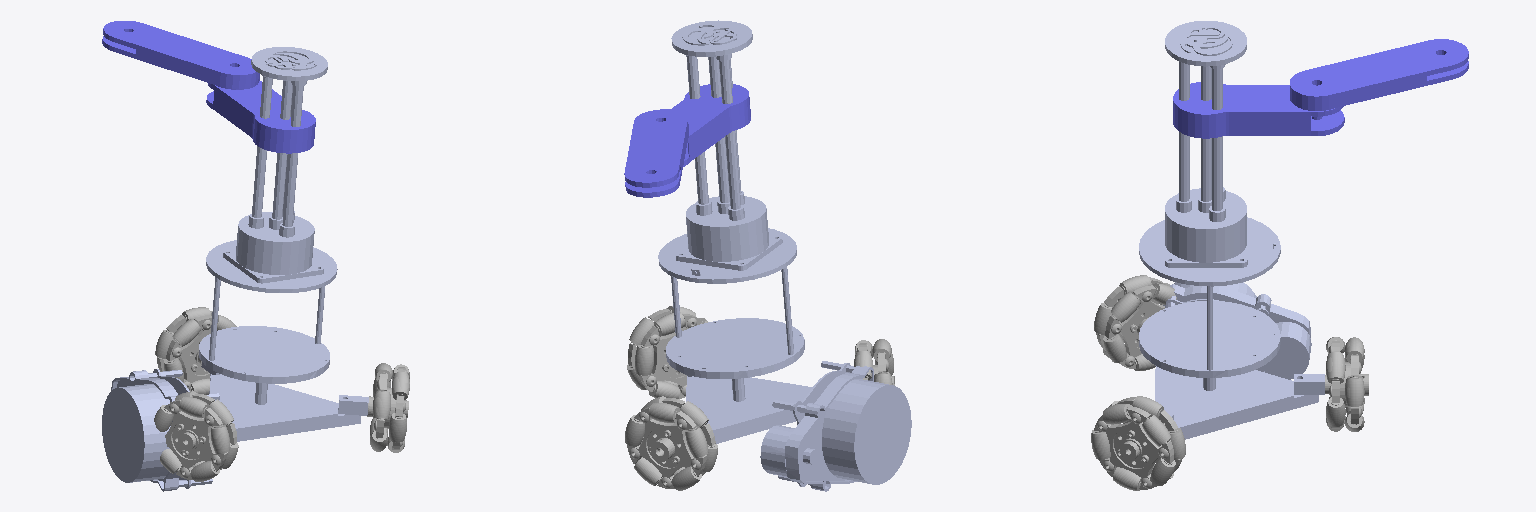
URDF robot description (Assem1):
<?xml version="1.0" encoding="utf-8"?>
<!-- This URDF was automatically created by SolidWorks to URDF Exporter! Originally created by [author] ([email redacted]) 
     Commit Version: 1.6.0-4-g7f85cfe  Build Version: 1.6.7995.38578
     For more information, please see http://wiki.ros.org/sw_urdf_exporter -->
<robot
  name="Assem1">
  <link
    name="base_link">
    <inertial>
      <origin
        xyz="0.00138412988892166 -0.233947694200955 0.086447759587498"
        rpy="0 0 0" />
      <mass
        value="0.212718644749271" />
      <inertia
        ixx="0.000468307672361224"
        ixy="-7.90615897498573E-10"
        ixz="-2.72097649438798E-05"
        iyy="0.000473440858649474"
        iyz="-1.77706072479913E-09"
        izz="0.000156068332696657" />
    </inertial>
    <visual>
      <origin
        xyz="0 0 0"
        rpy="0 0 0" />
      <geometry>
        <mesh
          filename="package://Assem1/meshes/base_link.STL" />
      </geometry>
      <material
        name="">
        <color
          rgba="0.792156862745098 0.819607843137255 0.933333333333333 1" />
      </material>
    </visual>
    <collision>
      <origin
        xyz="0 0 0"
        rpy="0 0 0" />
      <geometry>
        <mesh
          filename="package://Assem1/meshes/base_link.STL" />
      </geometry>
    </collision>
  </link>
  <link
    name="front_Link">
    <inertial>
      <origin
        xyz="-2.27165451396026E-06 9.99271376754193E-07 -0.0148791788242376"
        rpy="0 0 0" />
      <mass
        value="0.0376948230262005" />
      <inertia
        ixx="3.0970610652425E-06"
        ixy="9.0253844933679E-11"
        ixz="8.03810931836072E-10"
        iyy="3.09724580846862E-06"
        iyz="-3.53660389656641E-10"
        izz="5.34878410103065E-06" />
    </inertial>
    <visual>
      <origin
        xyz="0 0 0"
        rpy="0 0 0" />
      <geometry>
        <mesh
          filename="package://Assem1/meshes/front_Link.STL" />
      </geometry>
      <material
        name="">
        <color
          rgba="0.752941176470588 0.752941176470588 0.752941176470588 1" />
      </material>
    </visual>
    <collision>
      <origin
        xyz="0 0 0"
        rpy="0 0 0" />
      <geometry>
        <mesh
          filename="package://Assem1/meshes/front_Link.STL" />
      </geometry>
    </collision>
  </link>
  <joint
    name="front_joint"
    type="continuous">
    <origin
      xyz="-0.00404950262649333 -0.132105823252763 0.013307001497799"
      rpy="-1.57079632679488 0 0" />
    <parent
      link="base_link" />
    <child
      link="front_Link" />
    <axis
      xyz="0 0 -1" />
  </joint>
  <link
    name="left_Link">
    <inertial>
      <origin
        xyz="-1.56660067981984E-06 -1.92476766305502E-06 -0.0127208211603687"
        rpy="0 0 0" />
      <mass
        value="0.0376948231806095" />
      <inertia
        ixx="3.0970902966984E-06"
        ixy="-6.31823673559827E-11"
        ixz="-5.54316275714863E-10"
        iyy="3.09709294491525E-06"
        iyz="-6.81131430316285E-10"
        izz="5.34866048693013E-06" />
    </inertial>
    <visual>
      <origin
        xyz="0 0 0"
        rpy="0 0 0" />
      <geometry>
        <mesh
          filename="package://Assem1/meshes/left_Link.STL" />
      </geometry>
      <material
        name="">
        <color
          rgba="0.752941176470588 0.752941176470588 0.752941176470588 1" />
      </material>
    </visual>
    <collision>
      <origin
        xyz="0 0 0"
        rpy="0 0 0" />
      <geometry>
        <mesh
          filename="package://Assem1/meshes/left_Link.STL" />
      </geometry>
    </collision>
  </link>
  <joint
    name="left_joint"
    type="continuous">
    <origin
      xyz="-0.0925760232167772 -0.282329162453783 0.0209263985394864"
      rpy="1.49527817360993 -0.131724426585819 -1.04816512172391" />
    <parent
      link="base_link" />
    <child
      link="left_Link" />
    <axis
      xyz="0 0 -1" />
  </joint>
  <link
    name="right_Link">
    <inertial>
      <origin
        xyz="-2.45029280787623E-06 -3.93729776879126E-07 -0.0127208212275807"
        rpy="0 0 0" />
      <mass
        value="0.0376948233263364" />
      <inertia
        ixx="3.09712511369975E-06"
        ixy="3.61541755318194E-11"
        ixz="-8.67065222721518E-10"
        iyy="3.09706580134537E-06"
        iyz="-1.39372238878642E-10"
        izz="5.34866814999537E-06" />
    </inertial>
    <visual>
      <origin
        xyz="0 0 0"
        rpy="0 0 0" />
      <geometry>
        <mesh
          filename="package://Assem1/meshes/right_Link.STL" />
      </geometry>
      <material
        name="">
        <color
          rgba="0.752941176470588 0.752941176470588 0.752941176470588 1" />
      </material>
    </visual>
    <collision>
      <origin
        xyz="0 0 0"
        rpy="0 0 0" />
      <geometry>
        <mesh
          filename="package://Assem1/meshes/right_Link.STL" />
      </geometry>
    </collision>
  </link>
  <joint
    name="right_joint"
    type="continuous">
    <origin
      xyz="0.0814995964484913 -0.284509931547859 0.00594386841558721"
      rpy="1.64514555347933 -0.122670734776094 1.02398056831871" />
    <parent
      link="base_link" />
    <child
      link="right_Link" />
    <axis
      xyz="0 0 -1" />
  </joint>
  <link
    name="arm1_Link">
    <inertial>
      <origin
        xyz="6.07153216591882E-18 0.0251509254923845 -0.00869949806228582"
        rpy="0 0 0" />
      <mass
        value="0.0420074696165442" />
      <inertia
        ixx="3.92690065728655E-05"
        ixy="-3.19585442309E-21"
        ixz="6.20769865749185E-22"
        iyy="6.44311567787378E-06"
        iyz="-1.87122821944549E-08"
        izz="4.27850096860371E-05" />
    </inertial>
    <visual>
      <origin
        xyz="0 0 0"
        rpy="0 0 0" />
      <geometry>
        <mesh
          filename="package://Assem1/meshes/arm1_Link.STL" />
      </geometry>
      <material
        name="">
        <color
          rgba="0.501960784313725 0.501960784313725 1 1" />
      </material>
    </visual>
    <collision>
      <origin
        xyz="0 0 0"
        rpy="0 0 0" />
      <geometry>
        <mesh
          filename="package://Assem1/meshes/arm1_Link.STL" />
      </geometry>
    </collision>
  </link>
  <joint
    name="arm1_joint"
    type="prismatic">
    <origin
      xyz="0.0129942408668358 -0.235222572309918 0.221414479437715"
      rpy="0 0.0858574993068488 0" />
    <parent
      link="base_link" />
    <child
      link="arm1_Link" />
    <axis
      xyz="0 0 1" />
    <limit
      lower="0"
      upper="0"
      effort="0"
      velocity="0" />
  </joint>
  <link
    name="arm2_Link">
    <inertial>
      <origin
        xyz="-0.0219117692224897 0.0449779576804024 3.36284280196275E-05"
        rpy="0 0 0" />
      <mass
        value="0.0315426372720138" />
      <inertia
        ixx="3.05694213575924E-05"
        ixy="1.31480071425889E-05"
        ixz="2.25748474704743E-09"
        iyy="9.9859787189301E-06"
        iyz="-4.63390483834162E-09"
        izz="3.98214760721726E-05" />
    </inertial>
    <visual>
      <origin
        xyz="0 0 0"
        rpy="0 0 0" />
      <geometry>
        <mesh
          filename="package://Assem1/meshes/arm2_Link.STL" />
      </geometry>
      <material
        name="">
        <color
          rgba="0.501960784313725 0.501960784313725 1 1" />
      </material>
    </visual>
    <collision>
      <origin
        xyz="0 0 0"
        rpy="0 0 0" />
      <geometry>
        <mesh
          filename="package://Assem1/meshes/arm2_Link.STL" />
      </geometry>
    </collision>
  </link>
  <joint
    name="arm2_joint"
    type="continuous">
    <origin
      xyz="0.0183657404078357 -0.174985991062 0.226924157165142"
      rpy="0 0.0858574993068487 0" />
    <parent
      link="base_link" />
    <child
      link="arm2_Link" />
    <axis
      xyz="0 0 1" />
  </joint>
  <link
    name="camera_Link">
    <inertial>
      <origin
        xyz="0.0405947911550804 0.114125436121511 0.00982297718804185"
        rpy="0 0 0" />
      <mass
        value="3.31415926535897E-05" />
      <inertia
        ixx="1.54781744202722E-10"
        ixy="-1.41665821091332E-12"
        ixz="-1.21930482632803E-13"
        iyy="9.61939980391518E-11"
        iyz="2.28875449289258E-12"
        izz="6.97989279465885E-11" />
    </inertial>
    <visual>
      <origin
        xyz="0 0 0"
        rpy="0 0 0" />
      <geometry>
        <mesh
          filename="package://Assem1/meshes/camera_Link.STL" />
      </geometry>
      <material
        name="">
        <color
          rgba="0.792156862745098 0.819607843137255 0.933333333333333 1" />
      </material>
    </visual>
    <collision>
      <origin
        xyz="0 0 0"
        rpy="0 0 0" />
      <geometry>
        <mesh
          filename="package://Assem1/meshes/camera_Link.STL" />
      </geometry>
    </collision>
  </link>
  <joint
    name="camera_point"
    type="fixed">
    <origin
      xyz="-0.00602607771704599 -0.23298245758515 0.000429061089290164"
      rpy="1.5707963267949 0 1.5707963267949" />
    <parent
      link="base_link" />
    <child
      link="camera_Link" />
    <axis
      xyz="0 0 0" />
  </joint>
  <link
    name="lidar_Link">
    <inertial>
      <origin
        xyz="0.00179409767529698 0.085299684697352 0.00834566811277871"
        rpy="0 0 0" />
      <mass
        value="0.146695752131392" />
      <inertia
        ixx="6.22721120792819E-05"
        ixy="1.87963155913411E-05"
        ixz="1.6177817726973E-06"
        iyy="0.000125564806936655"
        iyz="1.36770749501304E-06"
        izz="0.000109791714930023" />
    </inertial>
    <visual>
      <origin
        xyz="0 0 0"
        rpy="0 0 0" />
      <geometry>
        <mesh
          filename="package://Assem1/meshes/lidar_Link.STL" />
      </geometry>
      <material
        name="">
        <color
          rgba="0.792156862745098 0.819607843137255 0.933333333333333 1" />
      </material>
    </visual>
    <collision>
      <origin
        xyz="0 0 0"
        rpy="0 0 0" />
      <geometry>
        <mesh
          filename="package://Assem1/meshes/lidar_Link.STL" />
      </geometry>
    </collision>
  </link>
  <joint
    name="lidar_point"
    type="continuous">
    <origin
      xyz="-0.00602607771704599 -0.23298245758515 0.000429061089290164"
      rpy="0 0 1.5" />
    <parent
      link="base_link" />
    <child
      link="lidar_Link" />
    <axis
      xyz="0 0 0" />
  </joint>
  
  <gazebo reference="lidar_Link"> <!-- Tham chiếu đến liên kết (link) có tên là "lidar_link" trong mô hình URDF/SDF -->
   <material>Gazebo/FlatBlack</material> <!-- Thiết lập vật liệu hiển thị trong Gazebo là màu đen phẳng (FlatBlack) -->
   
   <sensor type="ray" name="head_rplidar_sensor"> <!-- Khai báo cảm biến loại "ray" (tia quét) với tên là "head_rplidar_sensor" -->
      <pose>0 0 0 0 0 0</pose> <!-- Xác định vị trí và hướng của cảm biến trong hệ tọa độ của "lidar_link" (x, y, z, roll, pitch, yaw) -->
      <visualize>true</visualize> <!-- Cho phép hiển thị cảm biến trong giao diện Gazebo -->
      <update_rate>30.0</update_rate> <!-- Tần số cập nhật cảm biến là 30 lần mỗi giây (30 Hz) -->
      
      <ray> <!-- Bắt đầu cấu hình cho cảm biến tia quét -->
         <scan> <!-- Xác định thông số quét của cảm biến -->
            <horizontal> <!-- Cài đặt cho quét theo phương ngang -->
               <samples>50</samples> <!-- Số lượng tia quét trong mỗi vòng quét (50 tia) -->
               <resolution>1</resolution> <!-- Độ phân giải góc, mỗi tia quét sẽ có giá trị riêng lẻ (1: không nội suy giữa các tia) -->
               <min_angle>0.0</min_angle> <!-- Góc quét tối thiểu theo radian (0 rad, tương ứng 0 độ) -->
               <max_angle>6.28319</max_angle> <!-- Góc quét tối đa theo radian (~6.28319 rad, tương ứng 360 độ) -->
            </horizontal> <!-- Kết thúc phần cấu hình quét ngang -->
         </scan> <!-- Kết thúc phần thông số quét -->
         
         <range> <!-- Thiết lập phạm vi đo lường của cảm biến -->
            <min>0.120</min> <!-- Khoảng cách đo tối thiểu là 0.12 m (12 cm) -->
            <max>10</max> <!-- Khoảng cách đo tối đa là 10 m -->
            <resolution>0.015</resolution> <!-- Độ phân giải của khoảng cách là 0.015 m (15 mm) -->
         </range> <!-- Kết thúc phần thiết lập phạm vi -->
      </ray> <!-- Kết thúc phần cấu hình cảm biến tia quét -->
      
      <plugin name="gazebo_ros_head_rplidar_controller" filename="libgazebo_ros_laser.so"> <!-- Khai báo plugin ROS cho cảm biến lidar -->
         <topicName>scan</topicName> <!-- Dữ liệu quét của Lidar sẽ được xuất bản lên topic ROS có tên "scan" -->
         <frameName>lidar_Link</frameName> <!-- Tên khung tọa độ (frame) của cảm biến là "lidar_link" -->
         <gaussianNoise>0.01</gaussianNoise> <!-- Mức độ nhiễu Gaussian (nhiễu ngẫu nhiên) là 0.01 -->
      </plugin> <!-- Kết thúc phần cấu hình plugin ROS -->
   </sensor> <!-- Kết thúc phần cấu hình cảm biến -->
</gazebo> 

<!-- Plugin Camera -->
<gazebo reference="camera_link">  <!-- Gắn cảm biến vào liên kết (link) có tên 'camera_link' -->
  <sensor type="camera" name="camera_sensor"> <!-- Khai báo một cảm biến loại camera với tên 'camera_sensor' -->
    
    <update_rate>30</update_rate> <!-- Tần suất cập nhật của camera là 30 Hz (30 khung hình/giây) -->
    
    <camera> <!-- Bắt đầu cấu hình các thông số cho camera -->
      
      <horizontal_fov>1.3962634</horizontal_fov> <!-- Góc nhìn ngang (Field of View) là 1.3962634 rad (~80 độ) -->
      
      <image> <!-- Cài đặt thông số ảnh mà camera chụp được -->
        <width>640</width> <!-- Chiều rộng ảnh là 640 pixel -->
        <height>480</height> <!-- Chiều cao ảnh là 480 pixel -->
        <format>R8G8B8</format> <!-- Định dạng ảnh là RGB (8-bit cho mỗi kênh màu: đỏ, lục, lam) -->
      </image>
      
    </camera> <!-- Kết thúc cấu hình camera -->
    
    <!-- Cấu hình plugin ROS cho camera -->
    <plugin name="camera_controller" filename="libgazebo_ros_camera.so"> 
      <!-- 'name' là tên plugin, 'filename' là file thư viện động (.so) giúp camera giao tiếp với ROS -->
      
      <alwaysOn>true</alwaysOn> <!-- Camera luôn hoạt động (không bị tắt khi không cần thiết) -->
      
      <updateRate>30.0</updateRate> <!-- Tần suất gửi dữ liệu hình ảnh là 30 Hz -->
      
      <cameraName>my_camera</cameraName> <!-- Tên camera được sử dụng trong ROS -->
      
      <frameName>camera_Link</frameName> <!-- Tên frame (hệ tọa độ) gắn với camera -->
      
      <imageTopicName>/camera/image_raw</imageTopicName> <!-- Topic ROS phát hình ảnh thô (raw image) -->
      
      <cameraInfoTopicName>/camera/camera_info</cameraInfoTopicName> <!-- Topic ROS phát thông tin hiệu chỉnh camera -->
      
    </plugin> <!-- Kết thúc cấu hình plugin ROS -->
    
    <pose>0 0 0 0 0 0</pose> <!-- Vị trí và hướng của camera so với 'camera_link':
                                (x, y, z, roll, pitch, yaw) = (0, 0, 0, 0, 0, 0) -->
  </sensor> <!-- Kết thúc khai báo cảm biến camera -->
</gazebo> <!-- Kết thúc cấu hình cho Gazebo -->
<gazebo> 
  <!-- Bắt đầu khai báo cấu hình cho Gazebo -->
  
  <plugin name="gps_plugin" filename="libhector_gazebo_ros_gps.so"> 
    <!-- Khai báo plugin GPS sử dụng thư viện "libhector_gazebo_ros_gps.so" -->
    
    <alwaysOn>true</alwaysOn> 
    <!-- Luôn kích hoạt plugin GPS, ngay cả khi không có client nào subscribe -->

    <updateRate>10.0</updateRate> 
    <!-- Tần suất cập nhật dữ liệu GPS là 10 Hz (10 lần/giây) -->

    <bodyName>base_link</bodyName> 
    <!-- Xác định liên kết (link) mà cảm biến GPS gắn vào (ở đây là "base_link") -->
    
    <topicName>/gps/fix</topicName> 
    <!-- Tên topic ROS xuất ra dữ liệu vị trí GPS (kiểu sensor_msgs/NavSatFix) -->

    <velocityTopicName>/gps/fix_velocity</velocityTopicName> 
    <!-- Tên topic ROS xuất ra dữ liệu vận tốc (kiểu geometry_msgs/Vector3Stamped) -->
    
    <referenceLatitude>21.028511</referenceLatitude> 
    <!-- Giá trị vĩ độ gốc (ở đây là 21.028511 - tọa độ ở Hà Nội, Việt Nam) -->
    
    <referenceLongitude>105.804817</referenceLongitude> 
    <!-- Giá trị kinh độ gốc (ở đây là 105.804817 - tọa độ ở Hà Nội, Việt Nam) -->

    <referenceAltitude>10.0</referenceAltitude> 
    <!-- Độ cao gốc so với mực nước biển (10 mét) -->

    <drift>0.001 0.001 0.001</drift> 
    <!-- Mô phỏng độ lệch (trôi) của tín hiệu GPS theo các trục X, Y, Z (đơn vị: mét) -->

    <gaussianNoise>0.05 0.05 0.05</gaussianNoise> 
    <!-- Mô phỏng nhiễu Gauss (ngẫu nhiên) trên các trục X, Y, Z (đơn vị: mét) -->
    
  </plugin> 
  <!-- Kết thúc khai báo plugin GPS -->
  
</gazebo> 
<!-- Kết thúc phần cấu hình cho Gazebo -->

</robot>

--- Facts derived from the render (not from the file) ---
3 views of the same robot in one strip: view 1: azimuth 30°, elevation 25°; view 2: azimuth 150°, elevation 25°; view 3: azimuth 270°, elevation 25° (orthographic).
Model Assem1 with 8 links and 7 joints (5 continuous, 1 prismatic, 1 fixed), rooted at base_link, posed all joints at 0.
Links seen in each view (by area): view 1: base_link, lidar_Link, left_Link, arm2_Link, arm1_Link, front_Link, right_Link; view 2: base_link, lidar_Link, front_Link, arm2_Link, right_Link, arm1_Link, left_Link; view 3: base_link, arm2_Link, arm1_Link, right_Link, left_Link, lidar_Link, front_Link.
Link boxes in pixels (x1,y1,x2,y2): base_link: (199,47,368,441); lidar_Link: (102,369,219,491); left_Link: (154,391,238,481); arm2_Link: (102,21,259,88); arm1_Link: (206,81,315,153); front_Link: (155,307,236,394); right_Link: (367,363,409,452); base_link: (658,20,812,443); lidar_Link: (760,361,911,491); front_Link: (625,396,717,490); arm2_Link: (624,109,688,197); right_Link: (627,306,707,398); arm1_Link: (672,84,750,166); left_Link: (854,339,894,385); base_link: (1139,21,1324,439); arm2_Link: (1290,39,1468,110); arm1_Link: (1173,82,1344,138); right_Link: (1091,396,1185,490); left_Link: (1094,275,1176,370); lidar_Link: (1155,282,1311,379); front_Link: (1325,337,1368,431).
Size in the robot's own frame: 0.2098 by 0.2392 by 0.2939 metres.
Meshes: 8 distinct files referenced, 8 mesh visuals loaded (8 binary STL).
